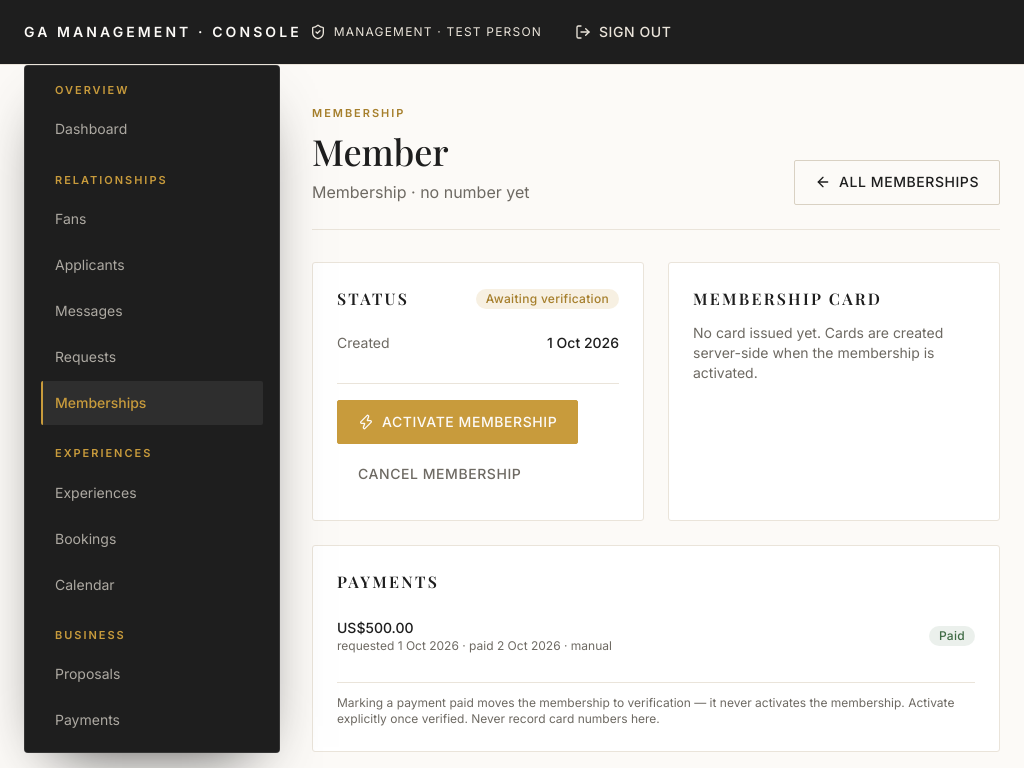
Test case: management console activation › activates a verified membership from the console and shows the issued card
Click the button "Activate membership". click: (458, 422)
box: x1=337 y1=400 x2=578 y2=444
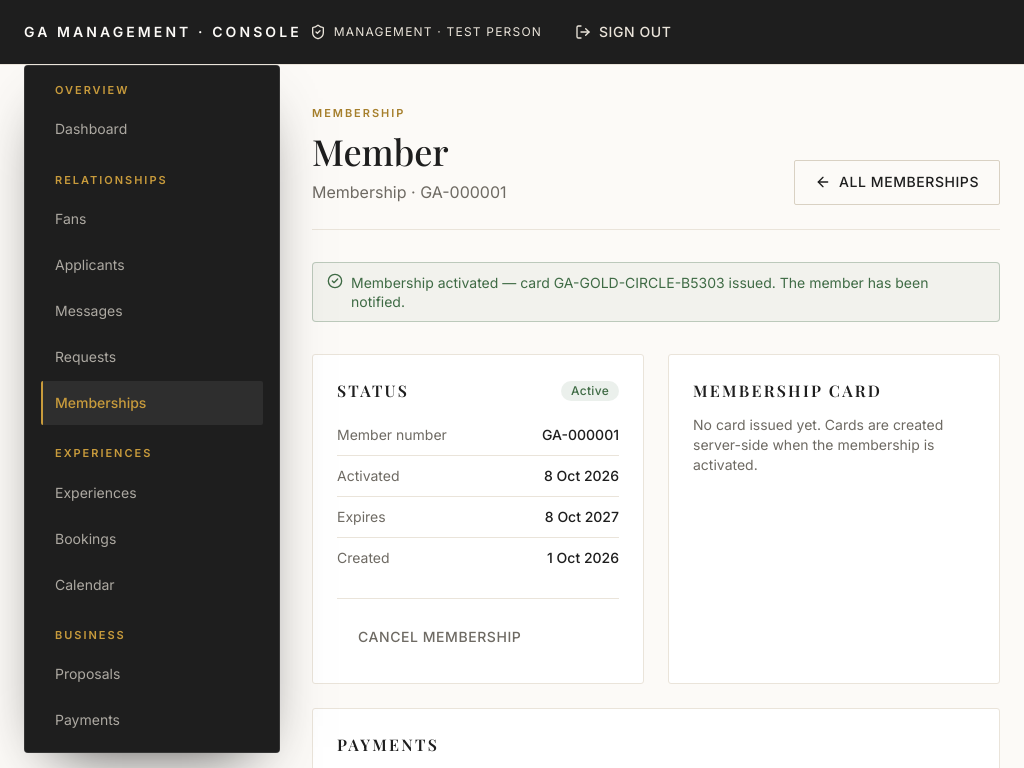
Expected: the text "Membership activated" is shown, x1=351 y1=274 x2=928 y2=310
